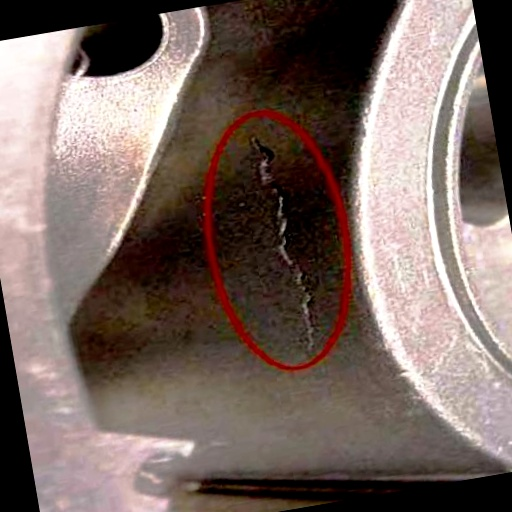crack: (226, 128, 336, 366)
